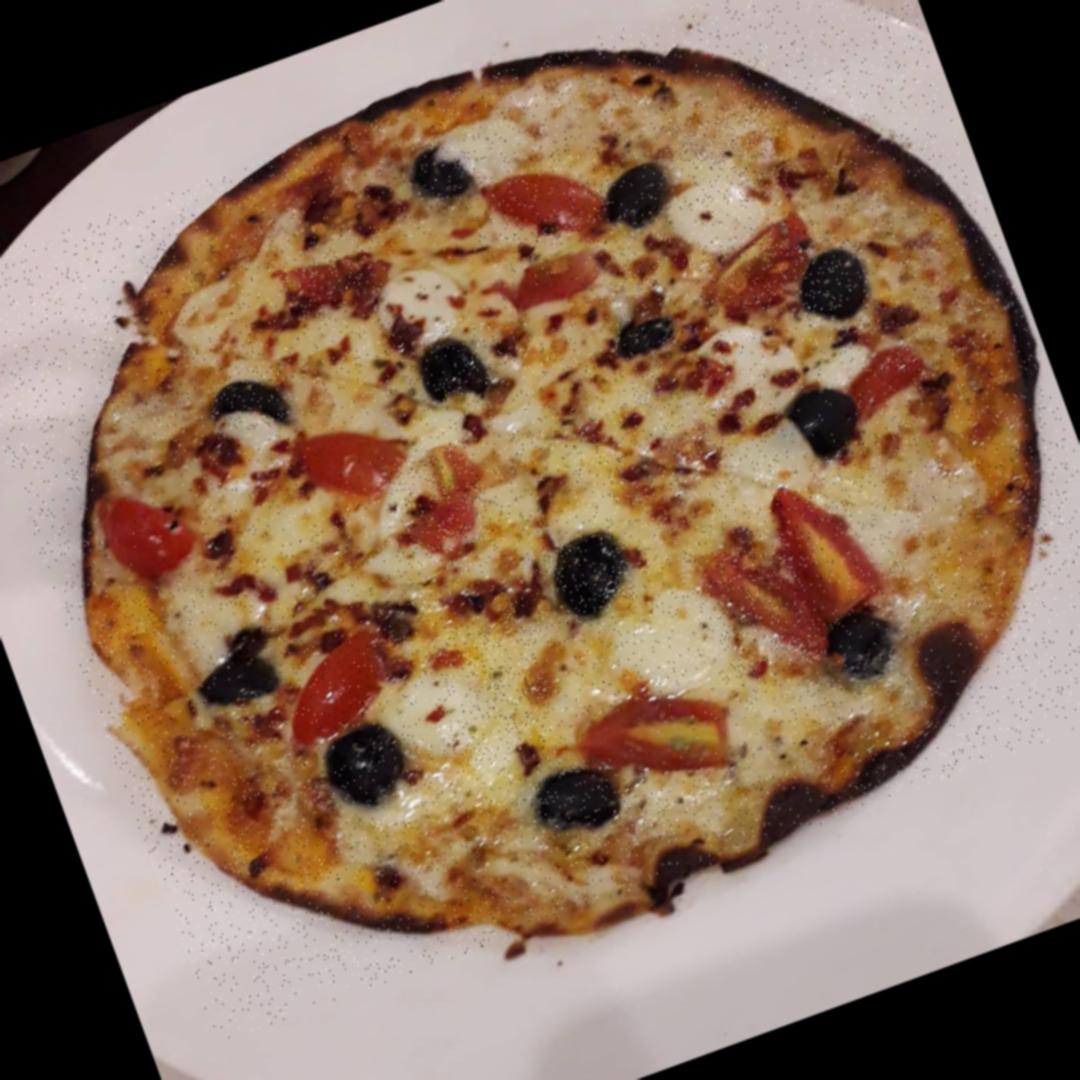Cheese: (552, 376, 741, 532), (416, 611, 564, 772), (462, 60, 631, 173), (205, 532, 367, 647), (675, 92, 802, 218), (381, 218, 502, 335)
Olives: (316, 716, 424, 816), (520, 755, 632, 850), (540, 528, 638, 628), (785, 235, 882, 330), (409, 321, 500, 418), (204, 362, 300, 445), (186, 638, 280, 719), (786, 377, 870, 459), (823, 609, 910, 688), (603, 157, 682, 232), (402, 136, 476, 212)
Pizza: (0, 0, 1080, 1043)
Tomatoes: (571, 672, 746, 810), (692, 526, 832, 690), (772, 465, 895, 630), (266, 622, 410, 752), (684, 206, 831, 324), (478, 142, 616, 258), (382, 437, 502, 569), (93, 468, 211, 593), (290, 408, 416, 518), (505, 241, 620, 322), (835, 335, 937, 417), (278, 245, 382, 323)
